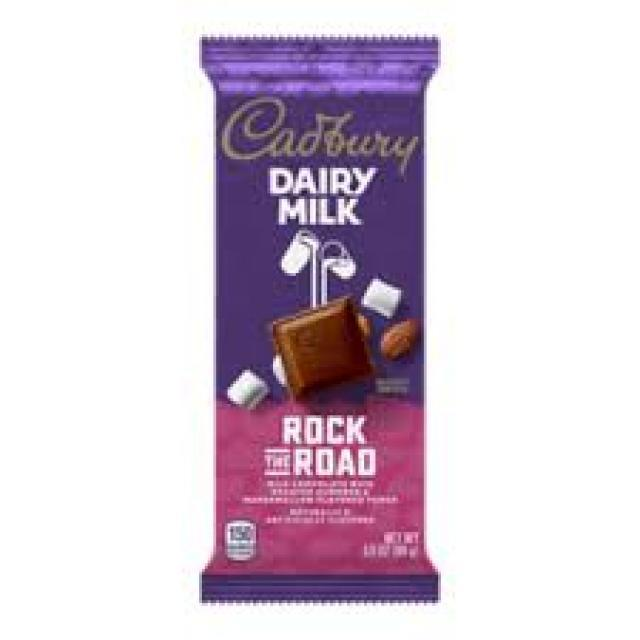cadbury_chocolate: (203, 25, 437, 597)
